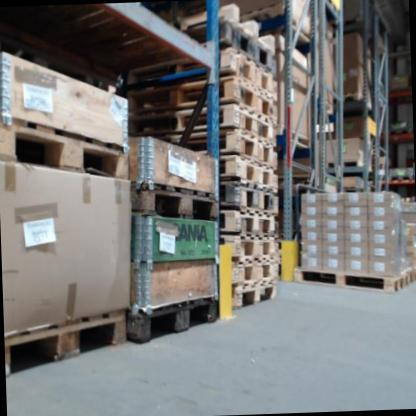pallet: (0, 107, 132, 191), (4, 303, 135, 382), (293, 253, 406, 301), (128, 294, 223, 351), (137, 112, 281, 147), (172, 134, 280, 175), (160, 94, 281, 124), (220, 154, 280, 196), (222, 177, 279, 220), (223, 55, 279, 98), (219, 204, 278, 242), (220, 231, 278, 263), (231, 261, 279, 286), (232, 284, 278, 306), (321, 153, 376, 171), (388, 173, 411, 185), (340, 91, 364, 101), (407, 259, 416, 285)
